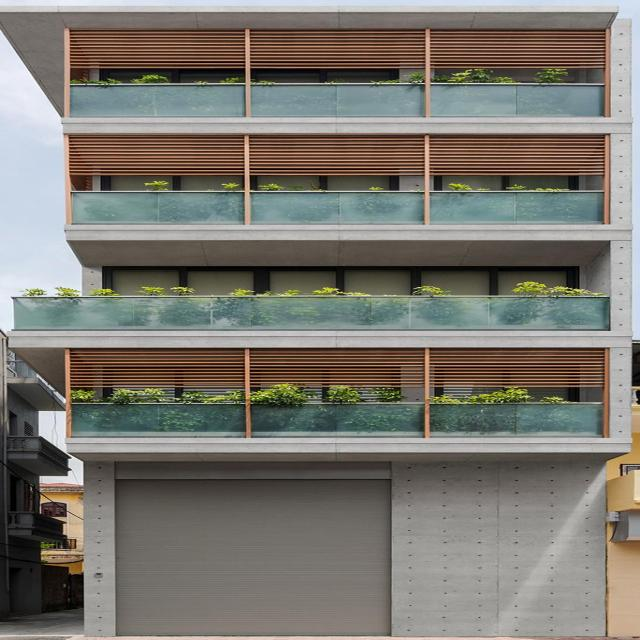railing: (9, 295, 615, 329), (68, 81, 609, 116), (70, 401, 605, 436), (71, 193, 605, 225)
